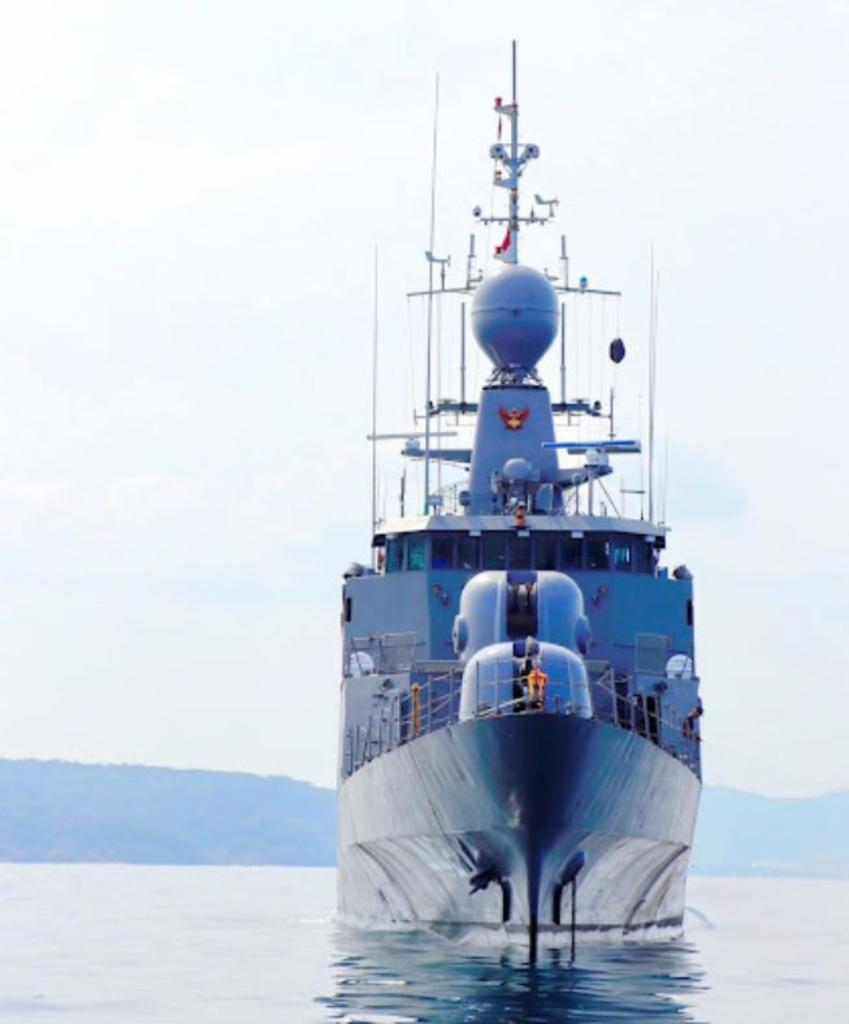Warship: (270, 108, 720, 940)
